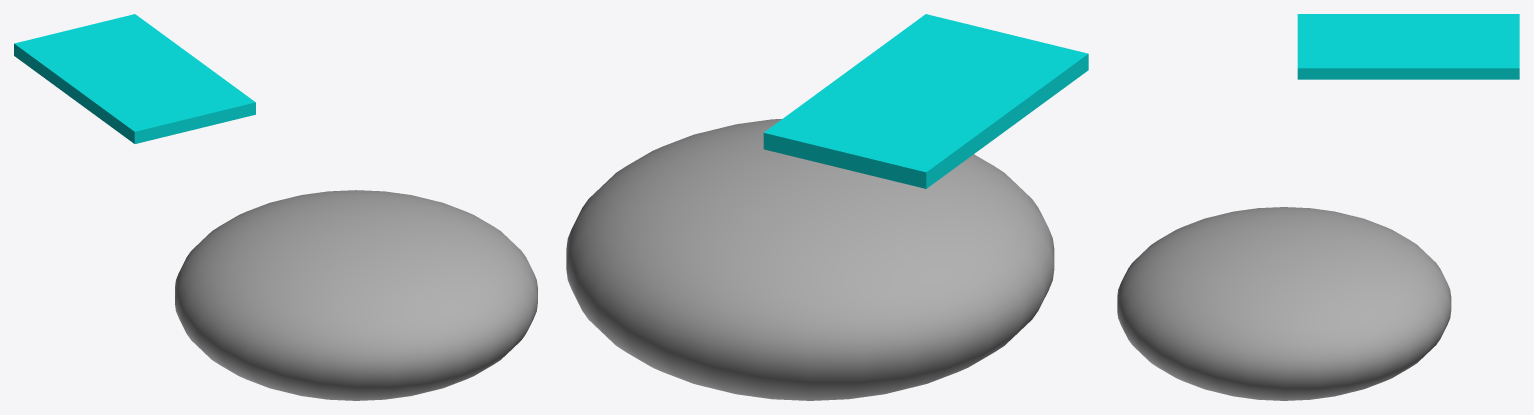
Rendered from Home_Polygon.fbx.
3 views of the same model, side by side, from view 1: azimuth 30°, elevation 25°; view 2: azimuth 150°, elevation 25°; view 3: azimuth 270°, elevation 25° (orthographic). The views are drawn at different scales.
Visible parts, largest first — view 1: pSphere5; view 2: pSphere5; view 3: pSphere5.
Part boxes in pixels (x1=…): pSphere5: x1=14, y1=14, x2=537, y2=400; pSphere5: x1=566, y1=14, x2=1088, y2=400; pSphere5: x1=1117, y1=14, x2=1519, y2=400.
Size of the model in its own units: 43.17 by 31.3 by 43.93.
